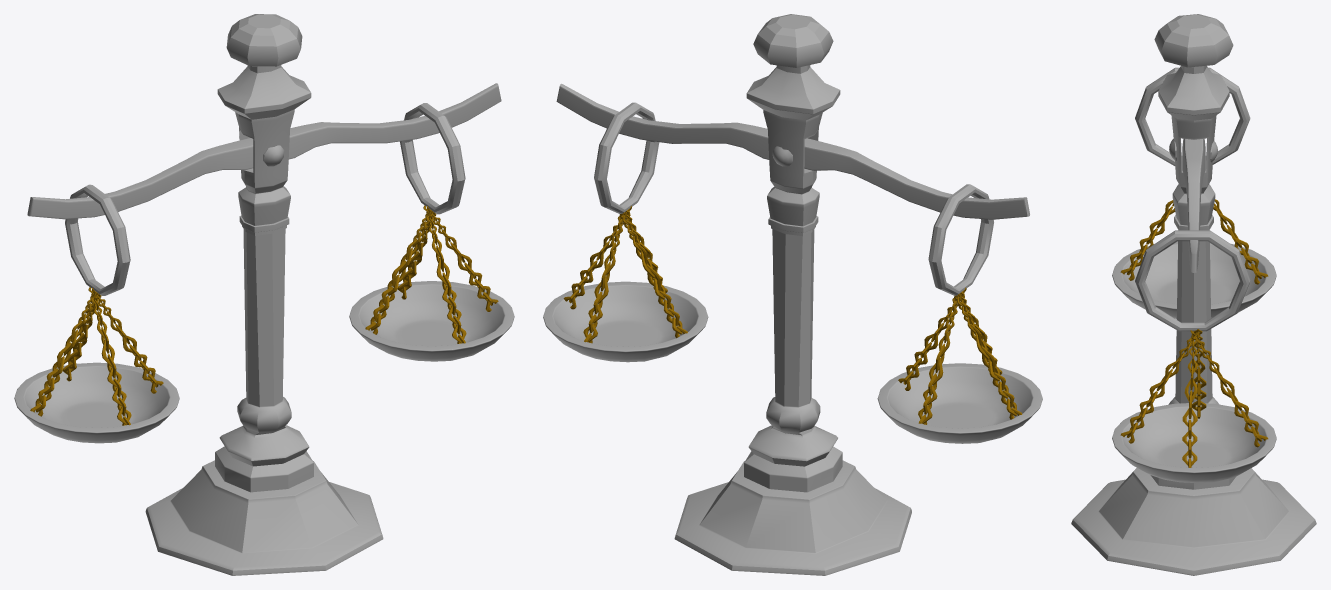
The model's file is Balanza.fbx.
The picture shows the model from 3 angles, left to right: view 1: azimuth 30°, elevation 25°; view 2: azimuth 150°, elevation 25°; view 3: azimuth 270°, elevation 25°; orthographic projection.
Parts seen in each view (by area): view 1: Base_de_Balanz, Balanza1; view 2: Base_de_Balanz, Balanza1; view 3: Base_de_Balanz, Balanza1.
Part boxes in pixels (box(x1,y1,x2,y2)): Base_de_Balanz: box(145, 14, 383, 575); Balanza1: box(14, 83, 514, 443); Base_de_Balanz: box(674, 14, 911, 575); Balanza1: box(543, 83, 1042, 443); Base_de_Balanz: box(1071, 14, 1316, 575); Balanza1: box(1112, 67, 1276, 482).
Size of the model in its own units: 6.37 by 6.42 by 2.84.
